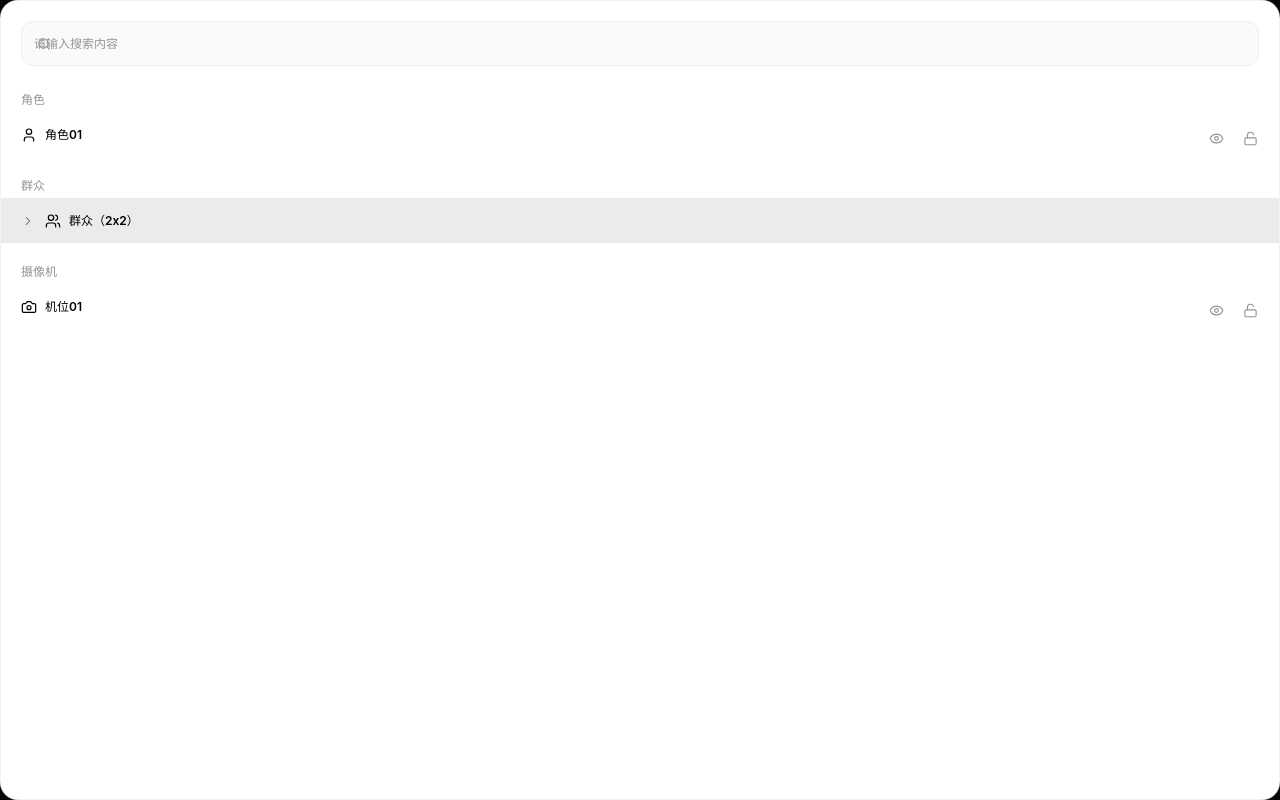
Test case: expands and collapses crowd groups to preview the members while keeping group-only selection
Expected: the button "角色02" is not shown
Click the button named "展开 群众（2x2）" at (28, 220), box [21,212,35,229]
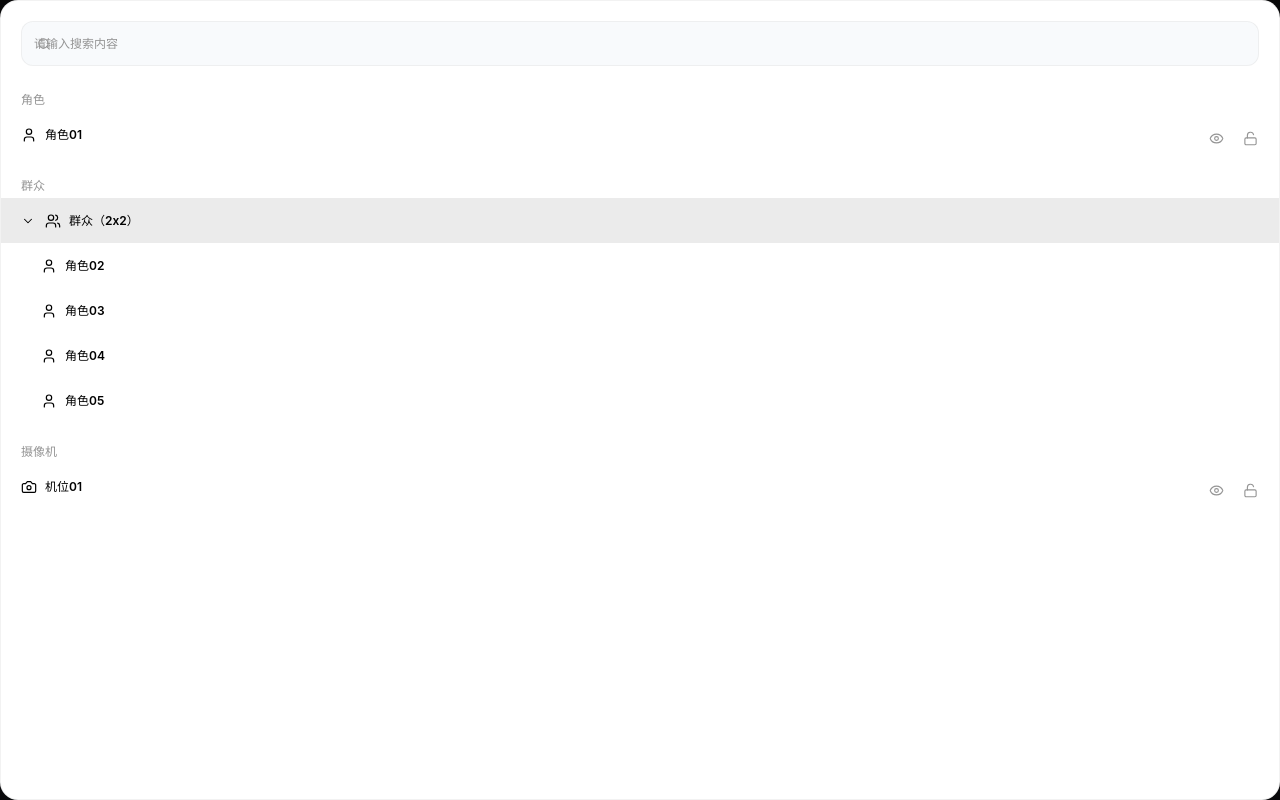
Now the button "角色02" is shown
Now the button "角色03" is shown, box [41,302,105,319]
Now the button "角色04" is shown, box [41,347,105,364]
Click the button "角色02" at (73, 266), box [41,257,104,274]
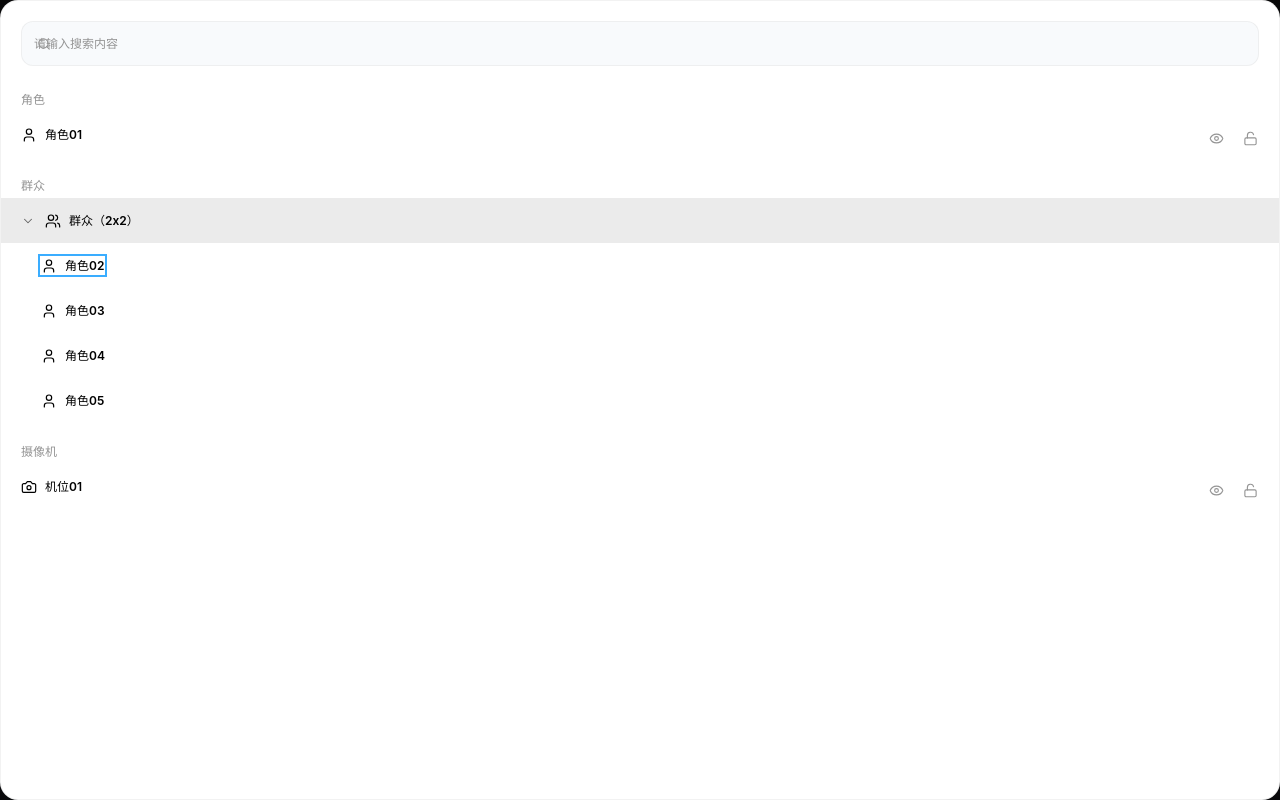
Click the button named "收起 群众（2x2）" at (28, 220), box [21,212,35,229]
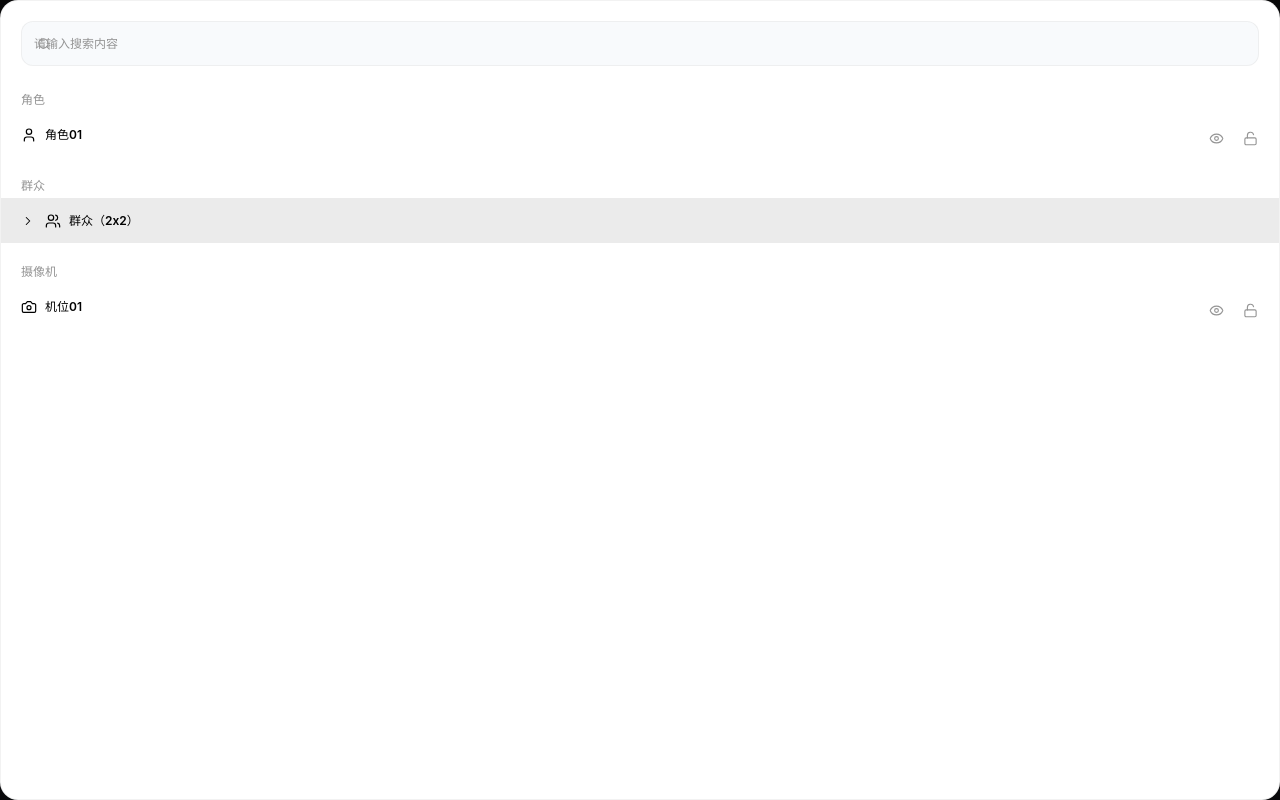
Now the button "角色02" is gone
